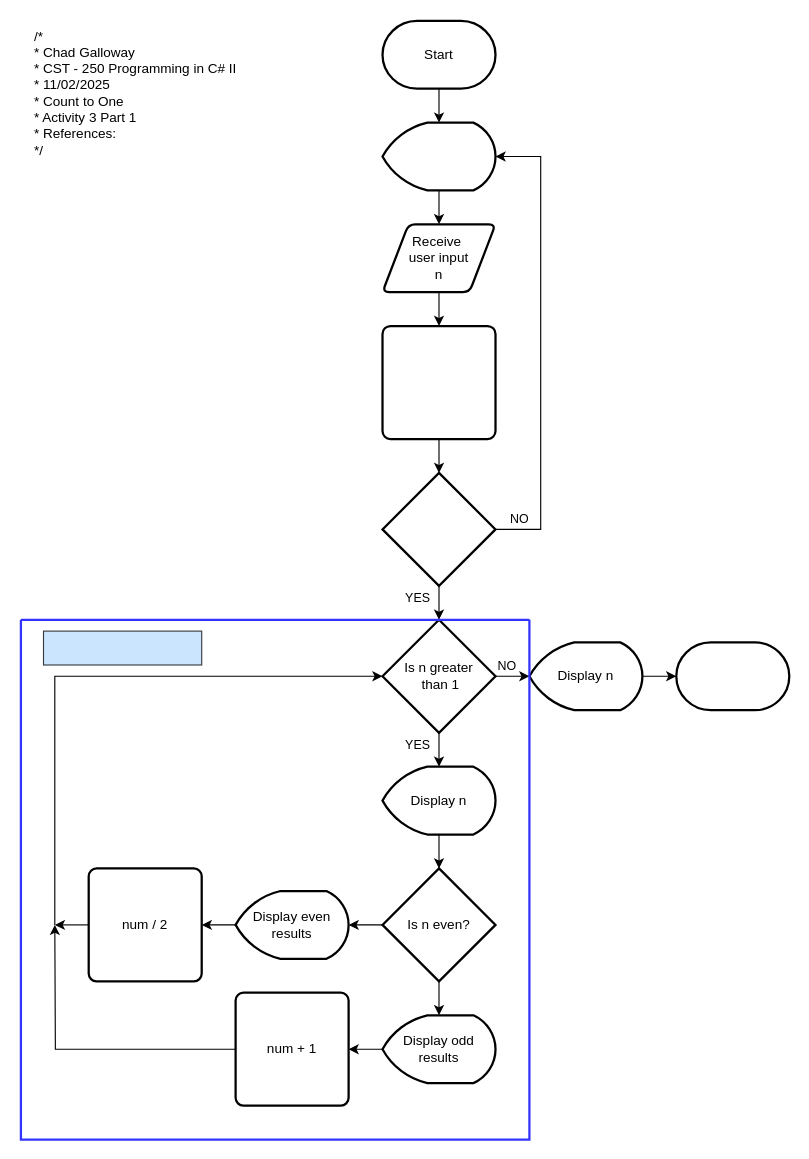
Some shapes in this 809 by 1159 pixel diagram are drawn without their labels. Here are the shapes that lost their labels. From the top down, the centre of each, then its label:
At point 438,156: "Display prompt for input".
At point 438,382: "Process users input for validity".
At point 438,528: "Is n valid input?".
At point 122,647: "Recursion Algorithm".
At point 732,676: "End".
